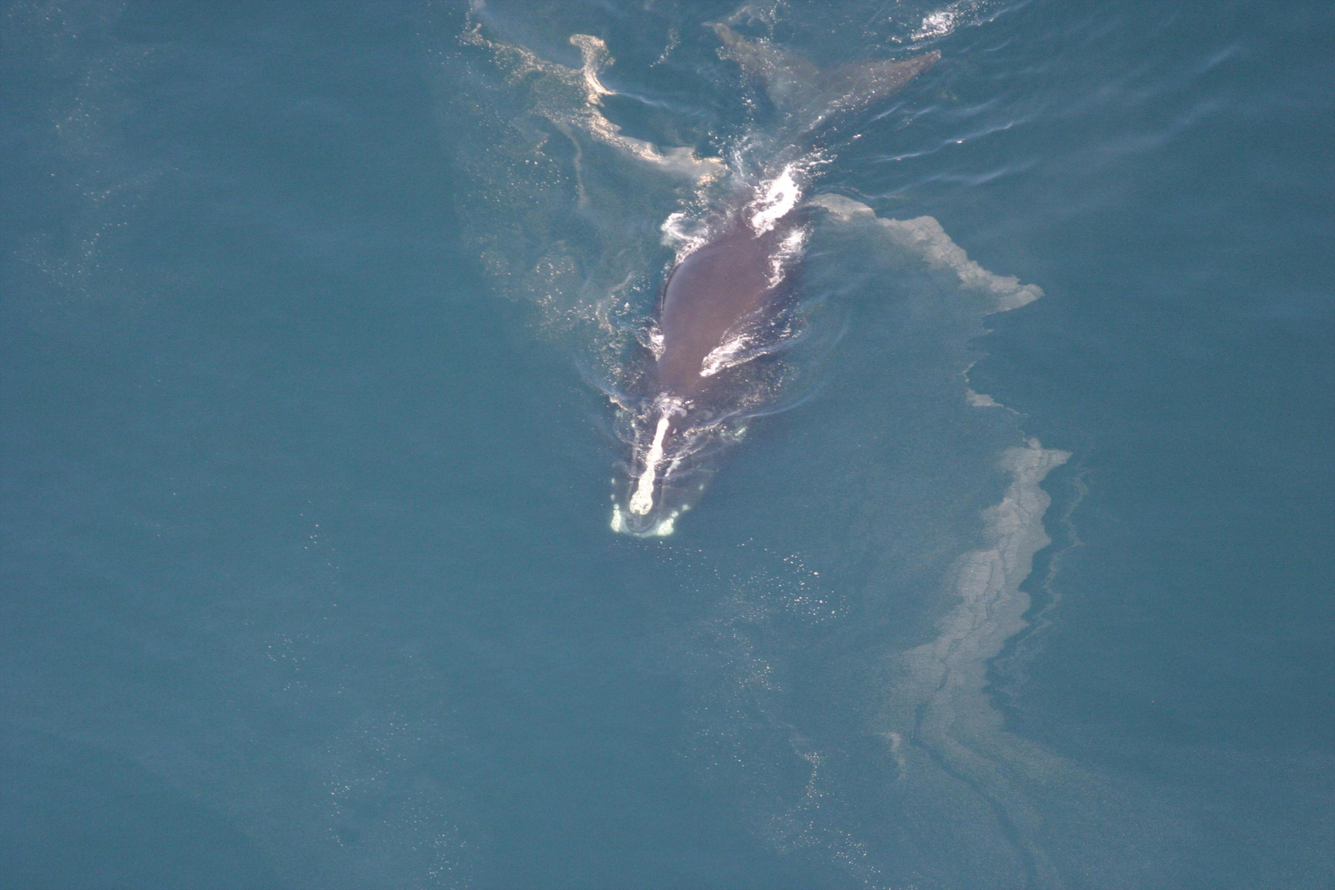whale: (591, 10, 958, 552)
